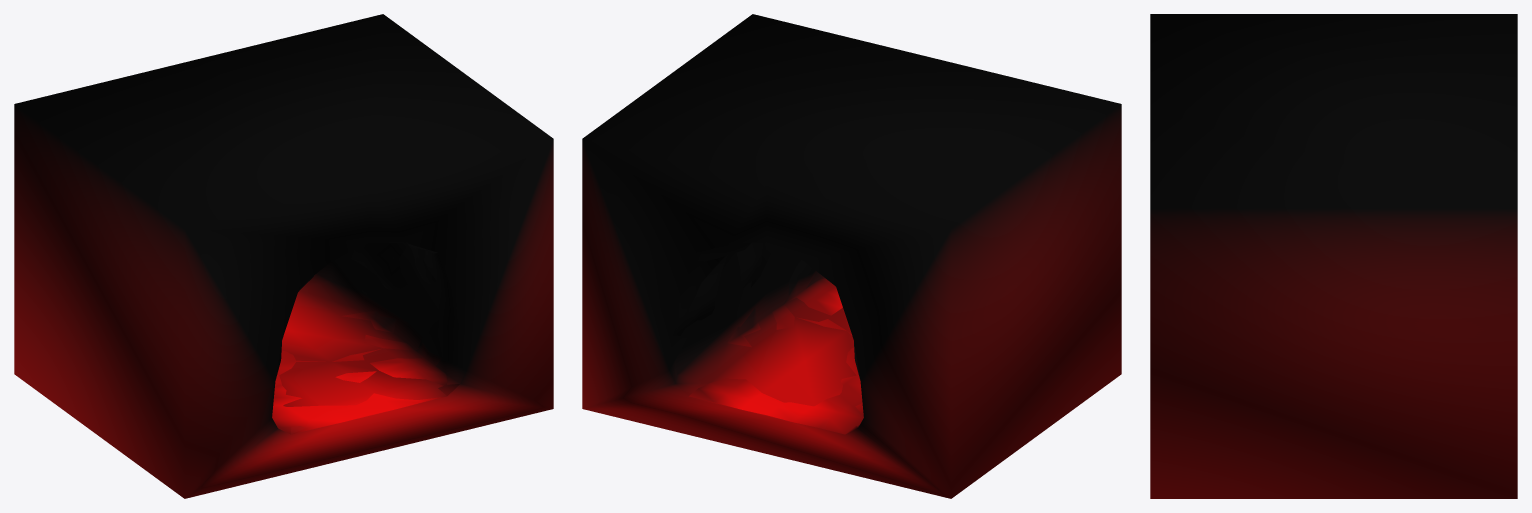
Rendered from JD_Cave_A_Tunnel_Jail_01.fbx.
3 renders of one model, left to right at view 1: azimuth 30°, elevation 25°; view 2: azimuth 150°, elevation 25°; view 3: azimuth 270°, elevation 25°, orthographic. The views are drawn at different scales.
Parts seen in each view (by area): view 1: C_JD_Cave_A_Tunnel_Jail_01, JD_Cave_A_Tunnel_Jail_01; view 2: C_JD_Cave_A_Tunnel_Jail_01, JD_Cave_A_Tunnel_Jail_01; view 3: C_JD_Cave_A_Tunnel_Jail_01.
Part boxes in pixels (bbox=[...]): C_JD_Cave_A_Tunnel_Jail_01: bbox=[14, 14, 553, 498]; JD_Cave_A_Tunnel_Jail_01: bbox=[272, 242, 460, 434]; C_JD_Cave_A_Tunnel_Jail_01: bbox=[582, 14, 1121, 498]; JD_Cave_A_Tunnel_Jail_01: bbox=[673, 242, 863, 434]; C_JD_Cave_A_Tunnel_Jail_01: bbox=[1150, 14, 1517, 498].
Bounding box in the file's own units: 10 × 7 × 8.
